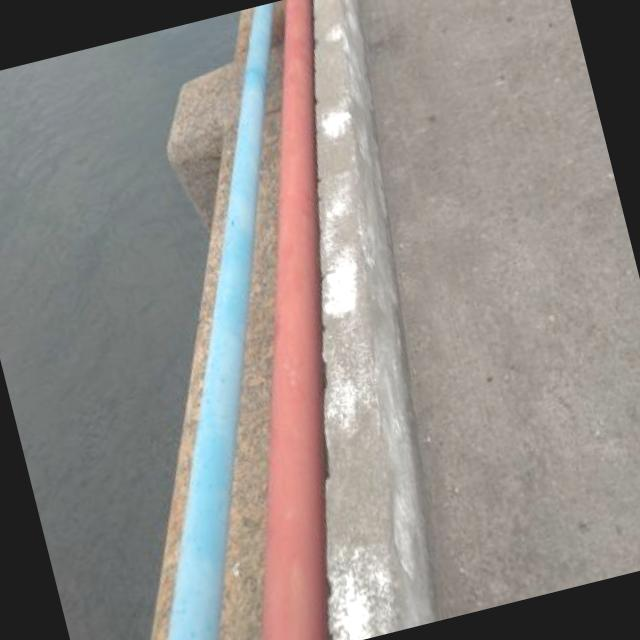gas: (163, 13, 273, 640), (259, 0, 326, 640)
